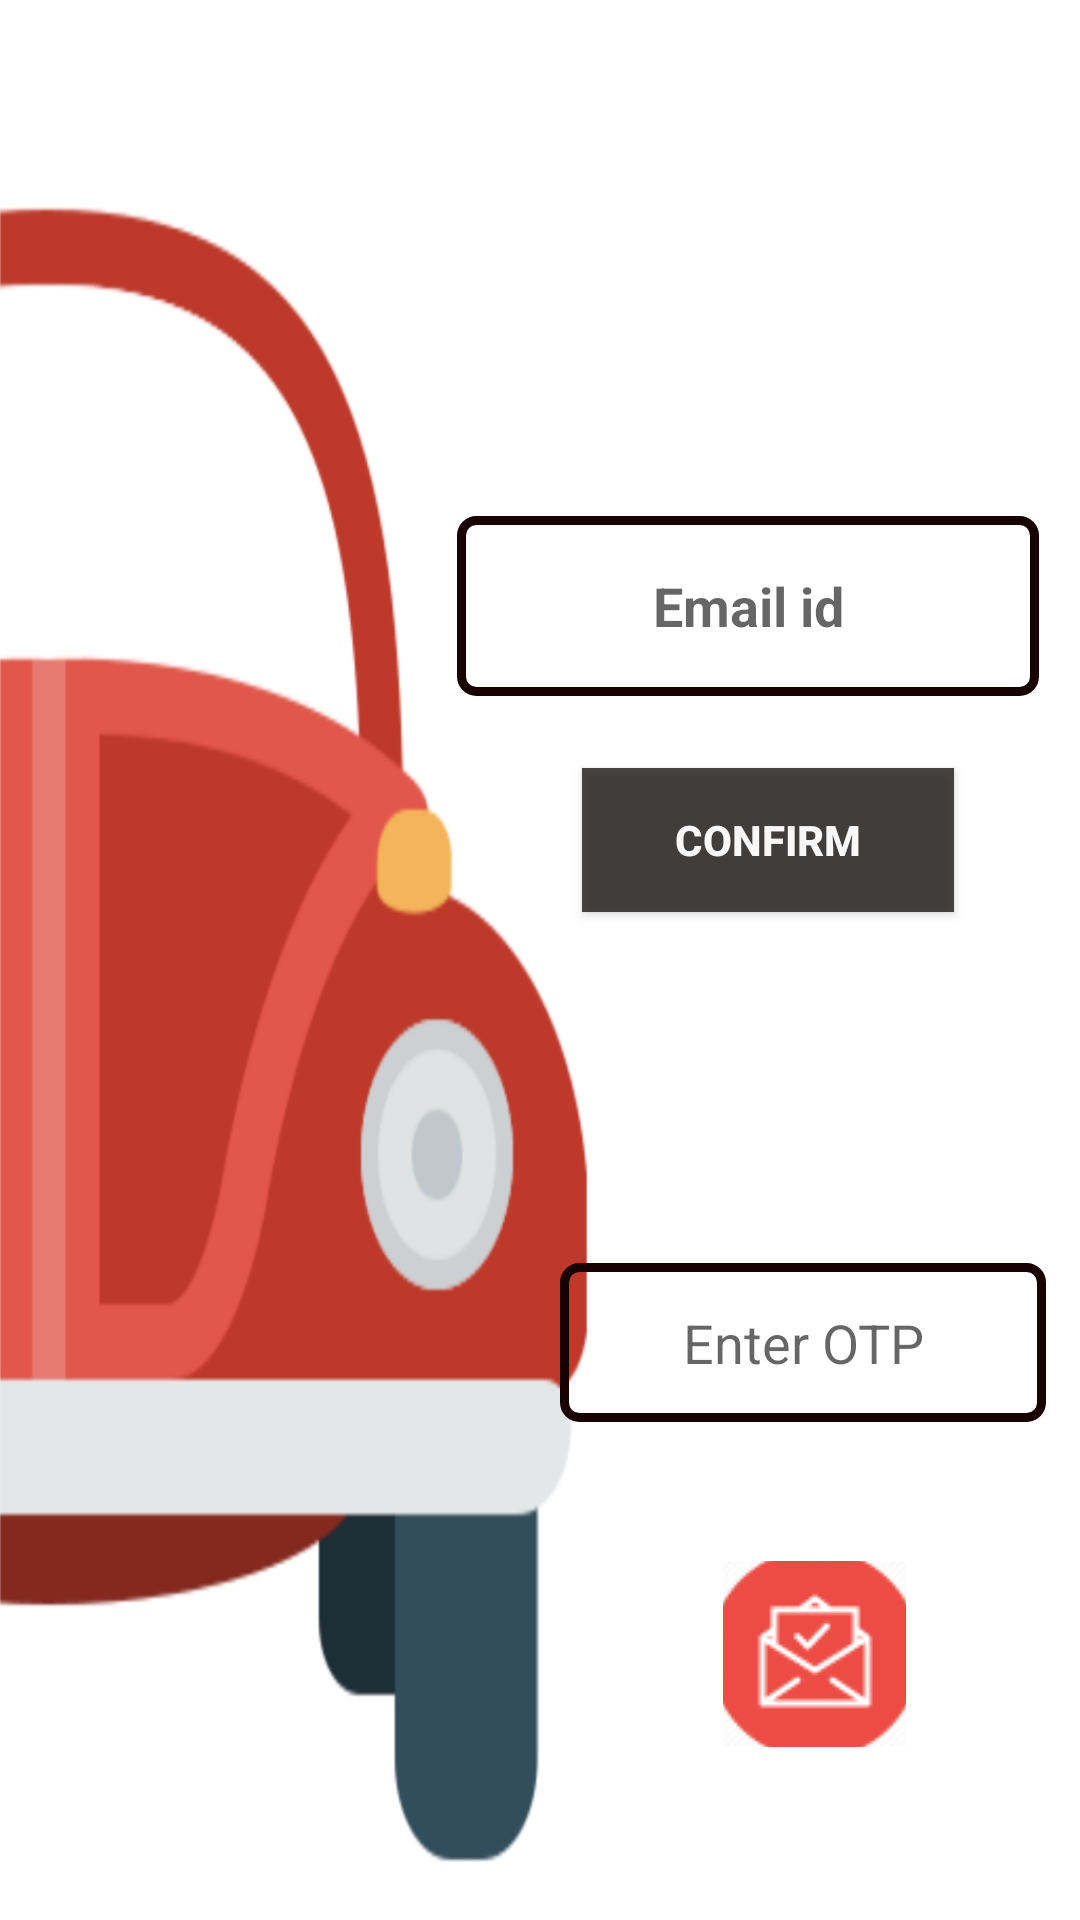

Locate icon controls on the screen. Image size 1080 x 1920, boxes as bbox=[x1, y1, x2, y2].
verify: bbox=[723, 1561, 906, 1747]
